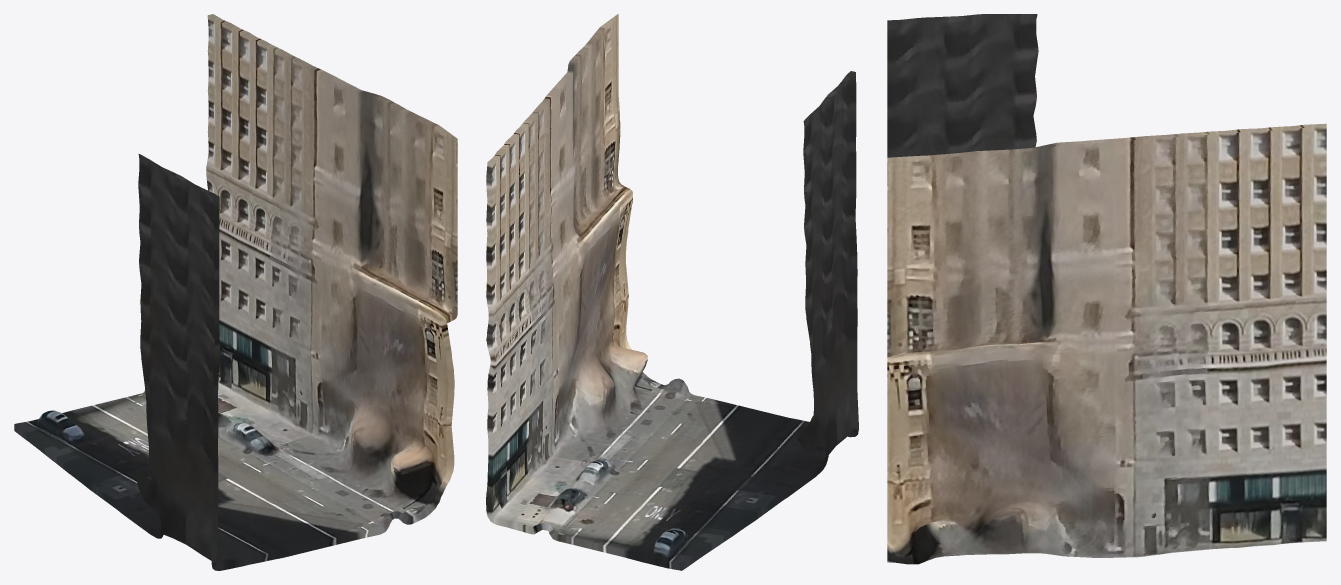
File: z20-167744-405247-h0-yup-uvflip-v3-world.glb
3 views of the same model, side by side, from view 1: azimuth 30°, elevation 25°; view 2: azimuth 150°, elevation 25°; view 3: azimuth 270°, elevation 25° (orthographic). The views are drawn at different scales.
Bounding box in the file's own units: 23.56 × 33.36 × 30.32.
Materials: 1 (1 with a texture image).
